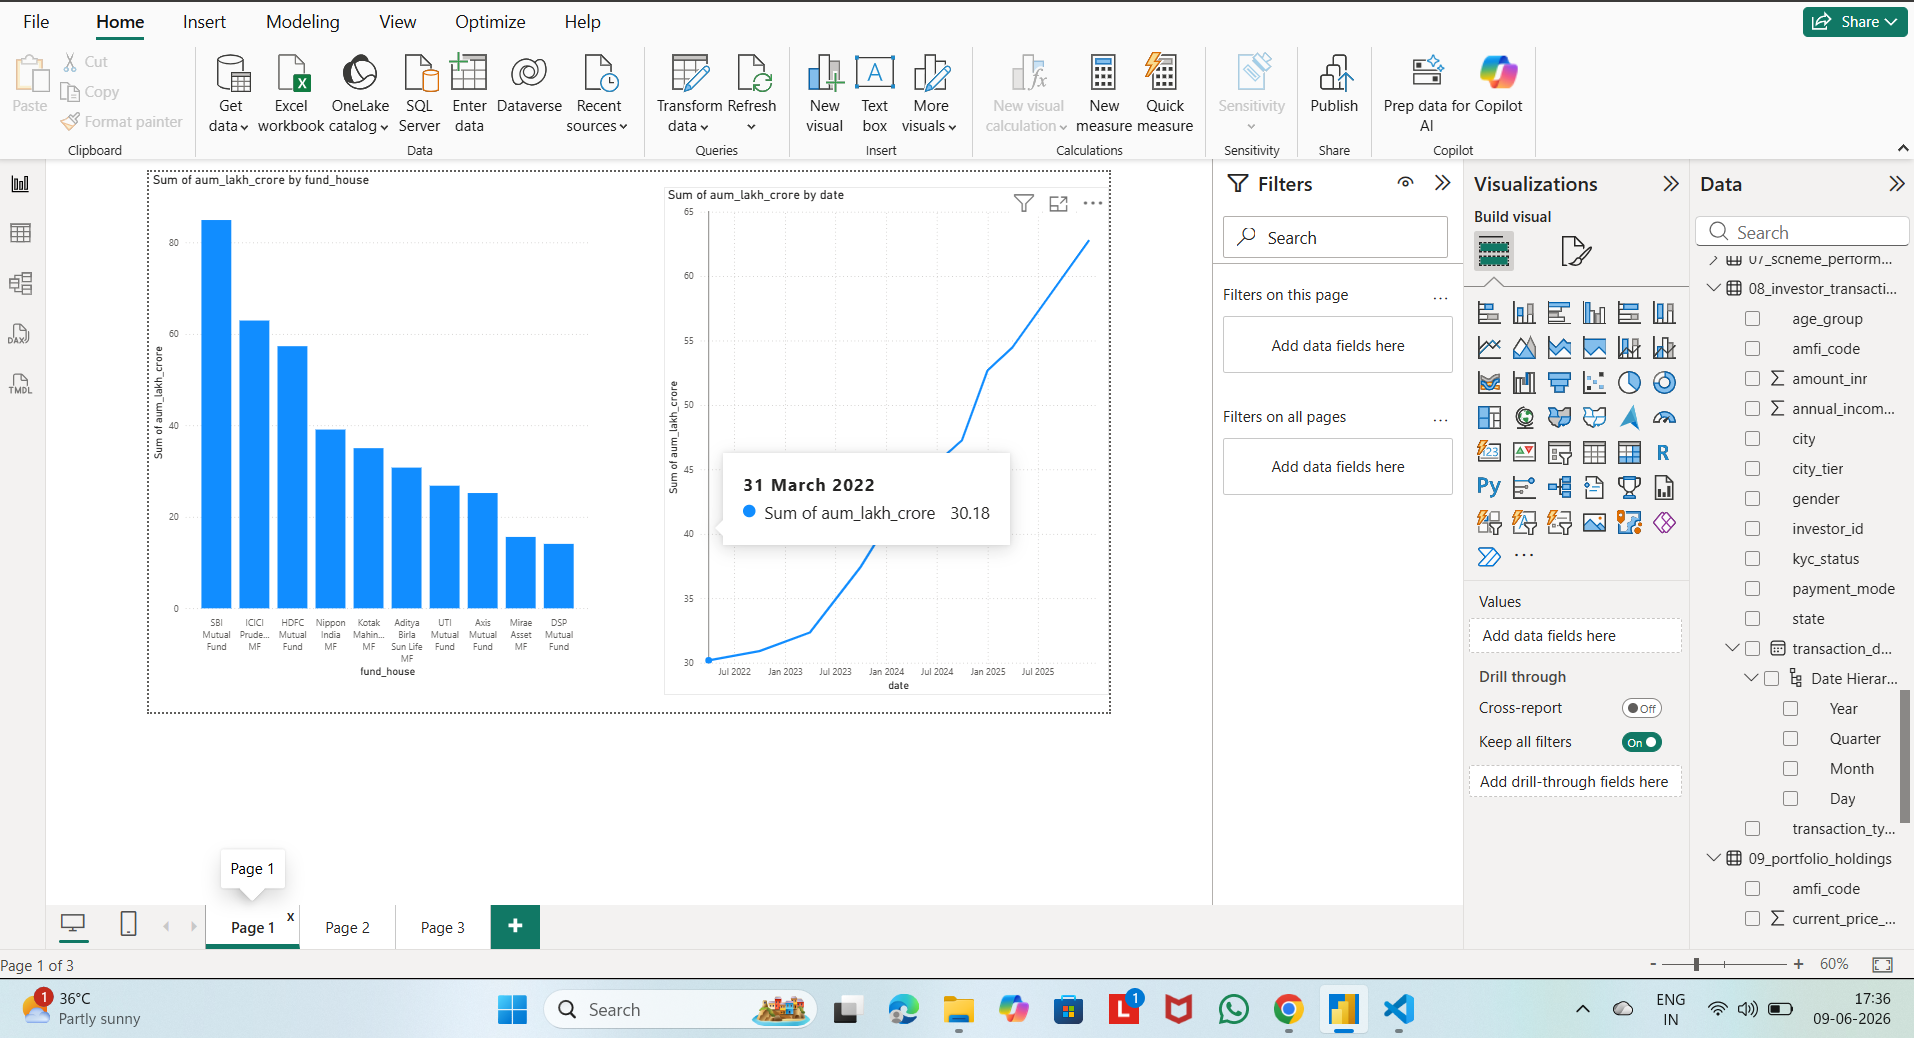

The page's visual inventory and layout, read from the dashboard file:
{"tool":"powerbi","page":{"name":"page1_industry_overview.png","canvas":[1280,720],"ordinal":0},"visuals":[{"type":"clusteredColumnChart","fields":{"Y":["Sum(03_aum_by_fund_house.aum_lakh_crore)"],"Category":["03_aum_by_fund_house.fund_house"]},"box":[0,0,592.5,678.8],"z":0},{"type":"lineChart","fields":{"Y":["Sum(03_aum_by_fund_house.aum_lakh_crore)"],"Category":["03_aum_by_fund_house.date"]},"box":[686.7,20,593.3,678.3],"z":1}]}

Visuals, with their boxes on the page's 1280x720 design canvas (x1, y1, x2, y2). These are canvas units, not pixel positions in the 1914x1038 screenshot, which may show the page scaled, cropped or inside an application window:
clusteredColumnChart - Sum(03_aum_by_fund_house.aum_lakh_crore) x 03_aum_by_fund_house.fund_house: (0, 0, 592, 679)
lineChart - Sum(03_aum_by_fund_house.aum_lakh_crore) x 03_aum_by_fund_house.date: (687, 20, 1280, 698)
